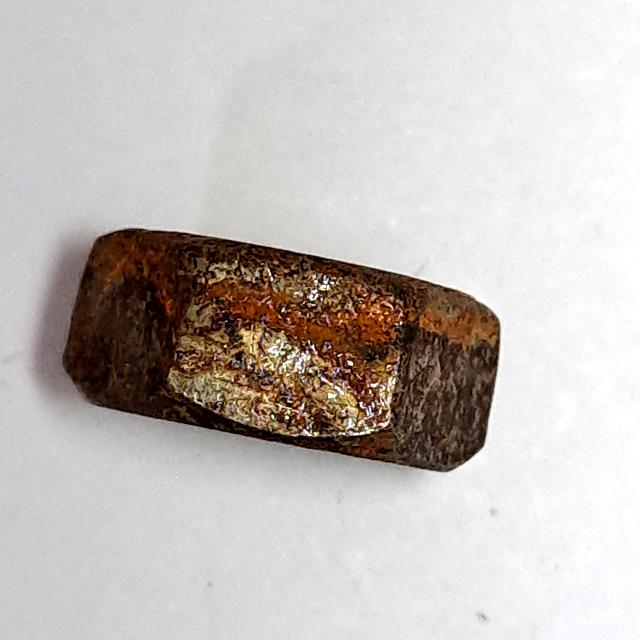Side_Rust: (55, 218, 516, 494)
